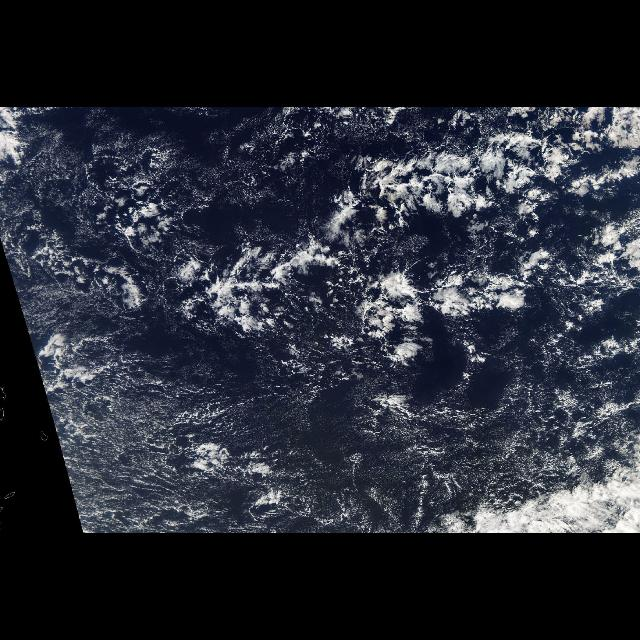Gravel: (18, 107, 362, 355)
Sugar: (35, 330, 639, 532)
